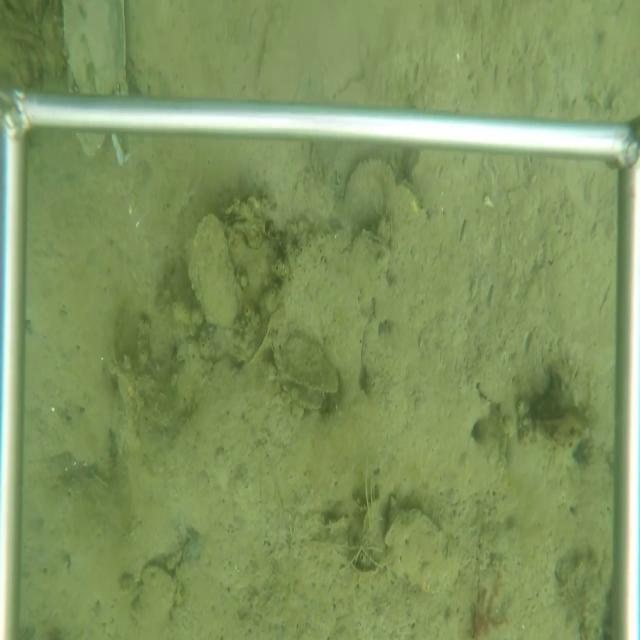Oyster-Closed: (186, 212, 258, 329), (342, 156, 431, 230)
Oyster-Indeterminate: (383, 486, 465, 601), (61, 0, 129, 99), (128, 556, 184, 637)
Oyster-Open: (277, 366, 344, 417)
